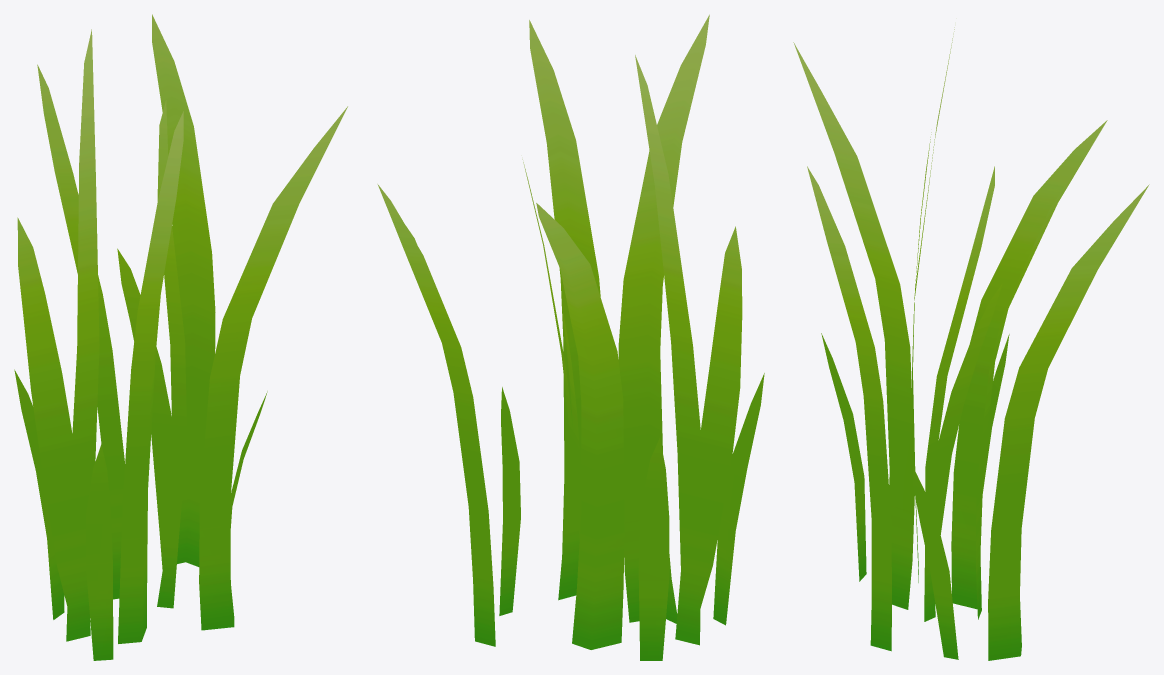
File: grass-short.glb
The picture shows the model from 3 angles, left to right: view 1: azimuth 30°, elevation 25°; view 2: azimuth 150°, elevation 25°; view 3: azimuth 270°, elevation 25°; orthographic projection. The views are drawn at different scales.
Visible parts, largest first — view 1: Plane_014; view 2: Plane_014; view 3: Plane_014.
Boxes of the visible parts, x1=… form: Plane_014: x1=14, y1=14, x2=347, y2=660; Plane_014: x1=377, y1=14, x2=764, y2=660; Plane_014: x1=793, y1=27, x2=1149, y2=660.
Bounding box in the file's own units: 0.6388 × 1.33 × 0.7373.
Materials: 1 (1 with a texture image).
